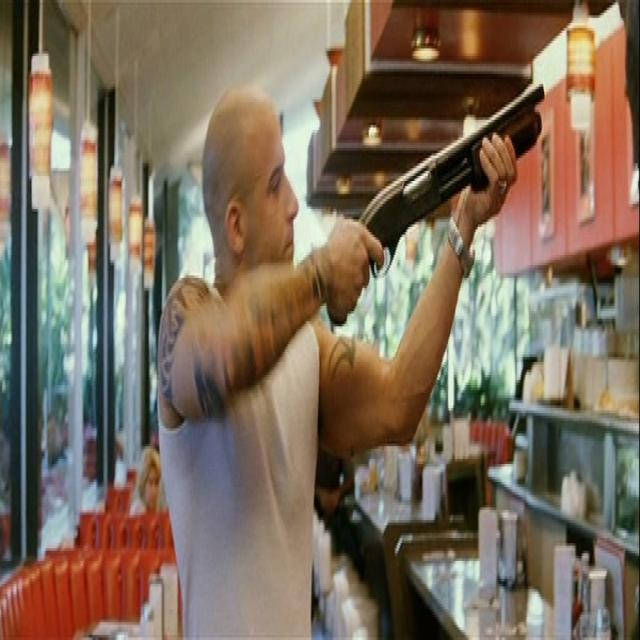rifle: (367, 85, 549, 279)
